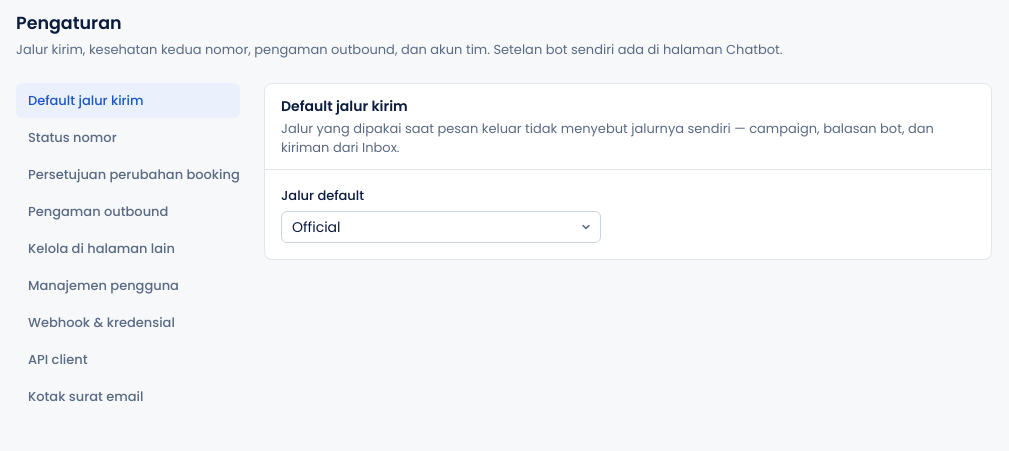
Scenario: SettingsPage — Pengaman outbound › shows each safety threshold with the bounds the API will actually enforce
Click the button "Pengaman outbound" at [128, 212], box [16,194,240,229]
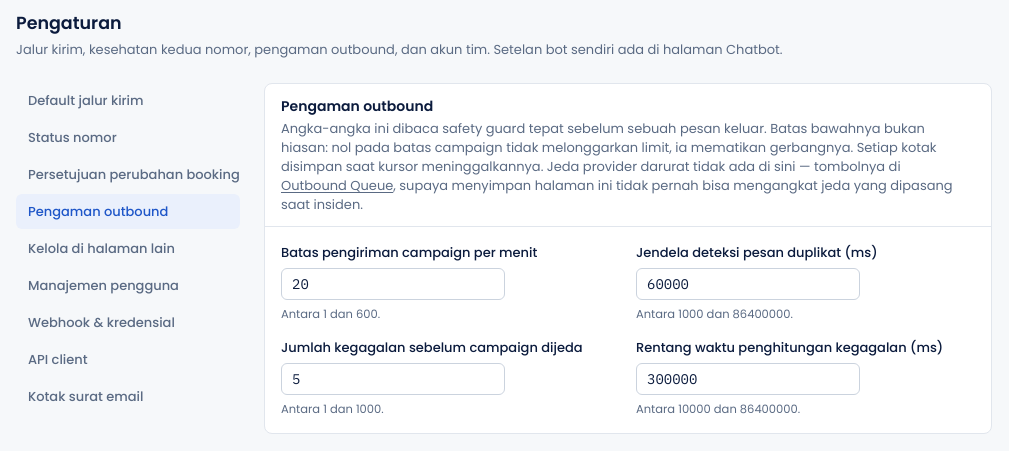
Expected: the number field labelled "Batas pengiriman campaign per menit" holds "20", [281,268,505,300]
